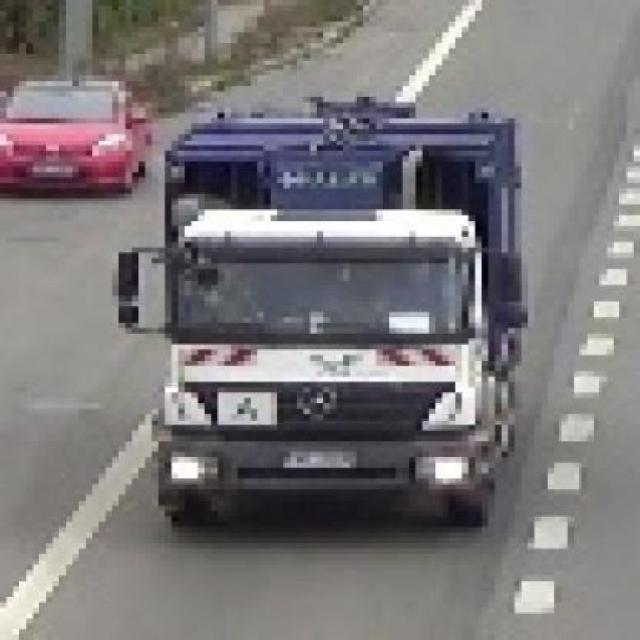truck: (120, 103, 536, 528)
